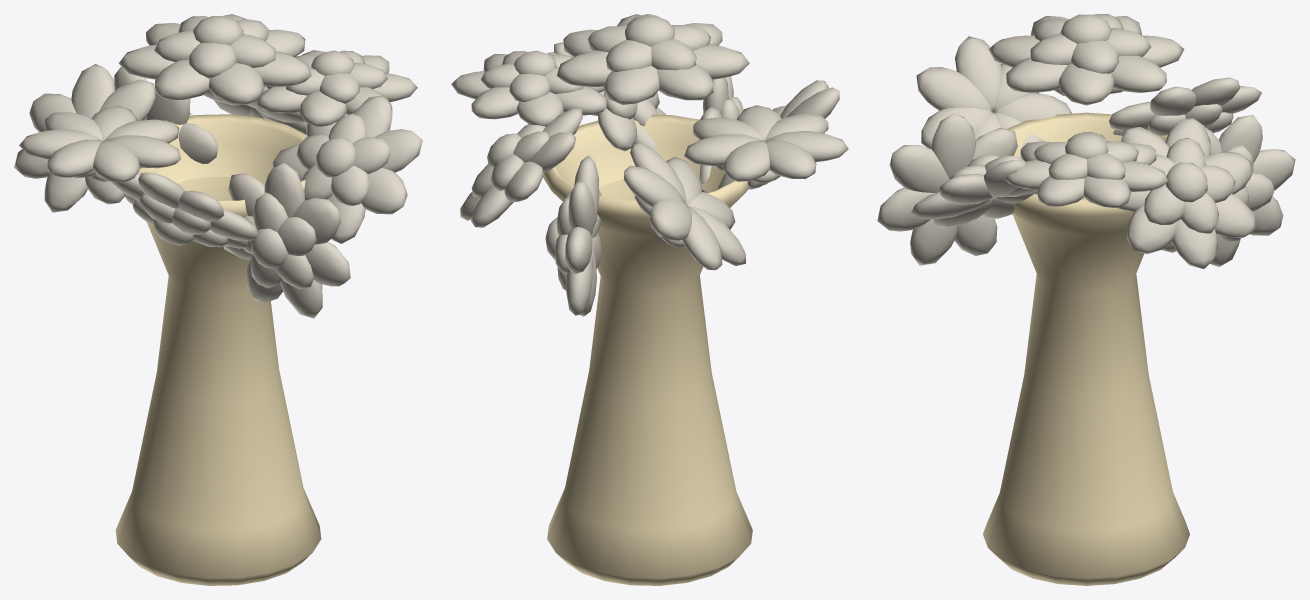
Rendered from floral-centerpiece.glb.
The picture shows the model from 3 angles, left to right: view 1: azimuth 30°, elevation 25°; view 2: azimuth 150°, elevation 25°; view 3: azimuth 270°, elevation 25°; orthographic projection.
Visible parts, largest first — view 1: petals-1, vase-0, heart-2; view 2: vase-0, petals-1, heart-2; view 3: petals-1, vase-0, heart-2.
Part boxes in pixels (box(x1,y1,x2,y2)): petals-1: box(14, 14, 422, 318); vase-0: box(115, 114, 321, 585); heart-2: box(89, 16, 355, 268); vase-0: box(543, 114, 752, 585); petals-1: box(451, 14, 848, 316); heart-2: box(487, 16, 780, 259); petals-1: box(877, 14, 1295, 268); vase-0: box(983, 112, 1189, 585); heart-2: box(967, 14, 1248, 205).
Bounding box in the file's own units: 1.02 × 1.41 × 1.01.
